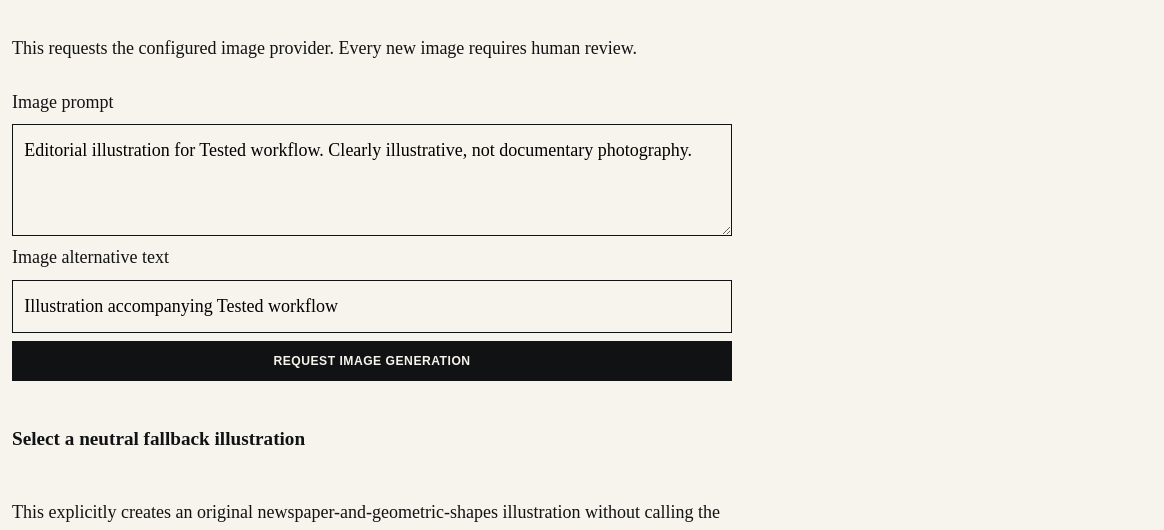
explicit fallback image review › does not create a fallback automatically after a provider failure
(page scrolled)
Step 1. Click the button "Request image generation" → (372, 361), box [12,341,732,381]
(page scrolled)
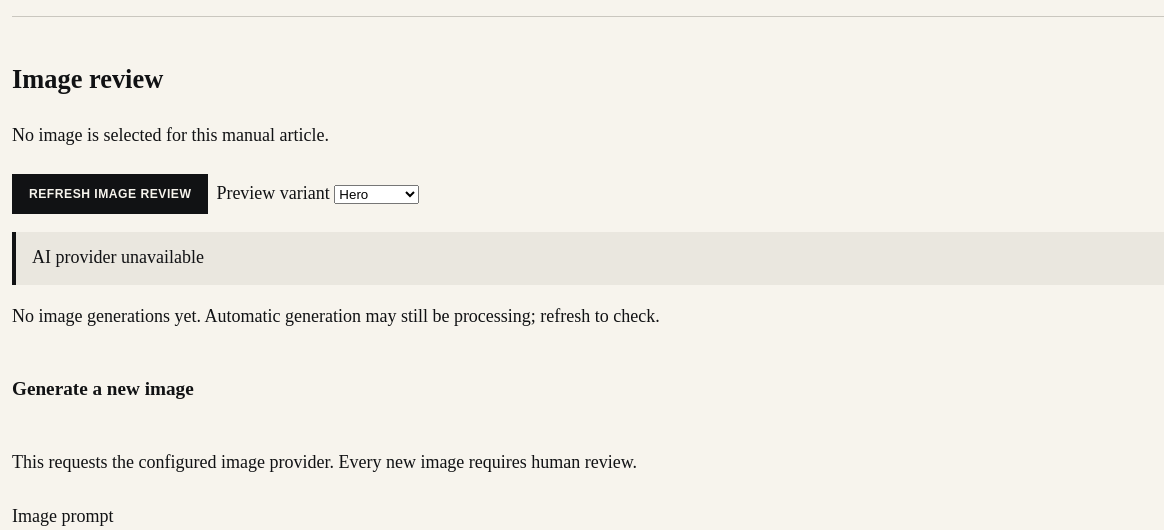
Result: the message reads "AI provider unavailable" at [32,247,204,267]
